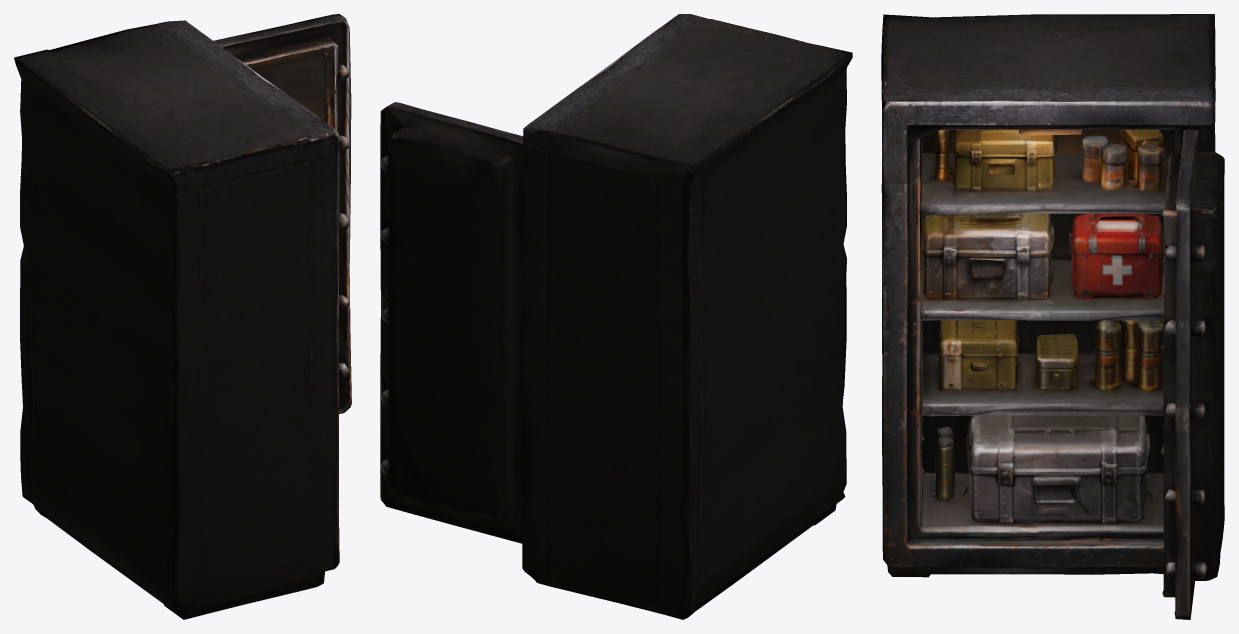
The model's file is st_safe_open.glb.
3 renders of one model, left to right at view 1: azimuth 30°, elevation 25°; view 2: azimuth 150°, elevation 25°; view 3: azimuth 270°, elevation 25°, orthographic. The views are drawn at different scales.
Parts seen in each view (by area): view 1: tripo_node_eac860b6-b64a-491c-b194-98fa8525de2b; view 2: tripo_node_eac860b6-b64a-491c-b194-98fa8525de2b; view 3: tripo_node_eac860b6-b64a-491c-b194-98fa8525de2b.
Boxes of the visible parts, bbox=[...] form: tripo_node_eac860b6-b64a-491c-b194-98fa8525de2b: bbox=[14, 14, 351, 619]; tripo_node_eac860b6-b64a-491c-b194-98fa8525de2b: bbox=[380, 14, 852, 619]; tripo_node_eac860b6-b64a-491c-b194-98fa8525de2b: bbox=[881, 14, 1224, 619].
Size of the model in its own units: 0.7219 by 0.9795 by 0.6302.
Materials: 1 (1 with a texture image).
